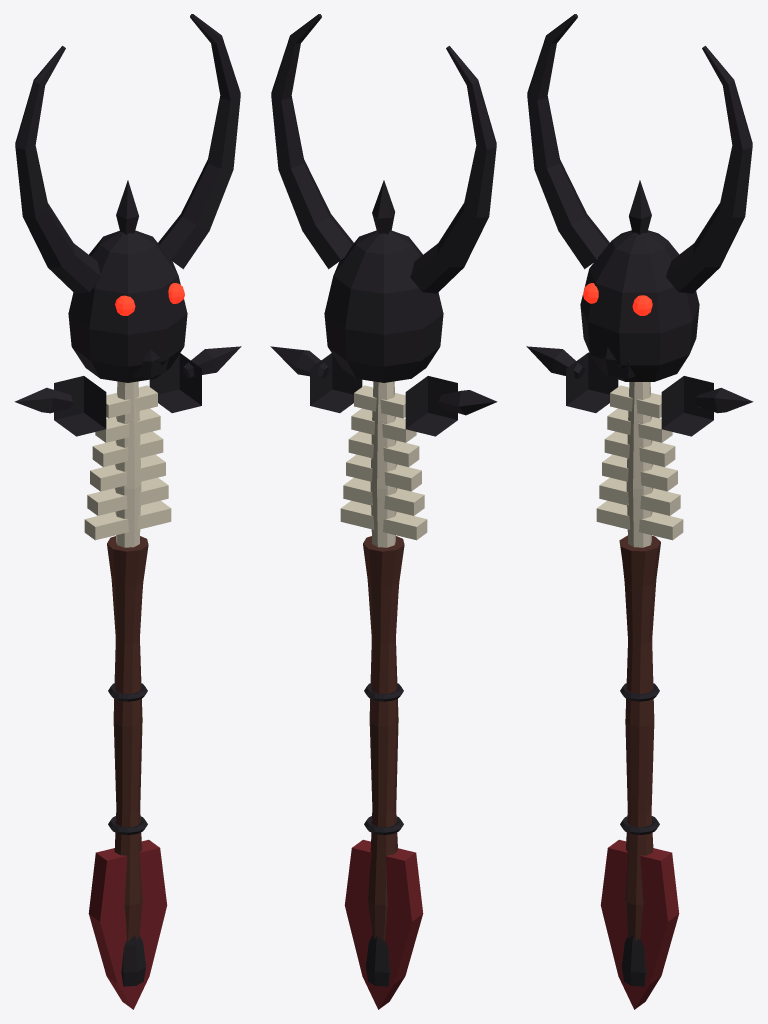
Rendered from staff_demon.glb.
The picture shows the model from 3 angles, left to right: view 1: azimuth 30°, elevation 25°; view 2: azimuth 150°, elevation 25°; view 3: azimuth 330°, elevation 25°; orthographic projection.
Parts seen in each view (by area): view 1: Dm_Helm, Dm_Shaft, Dm_Skirt, Dm_Horn1, Dm_Horn0, Dm_Spine, Dm_Pauldron0, Dm_Pauldron1, Dm_Rib0, Dm_Rib1, Dm_Rib2, Dm_Rib3 (+7 smaller); view 2: Dm_Helm, Dm_Shaft, Dm_Skirt, Dm_Horn1, Dm_Horn0, Dm_Spine, Dm_Pauldron0, Dm_Pauldron1, Dm_Rib0, Dm_Rib1, Dm_Rib2, Dm_Rib3 (+6 smaller); view 3: Dm_Helm, Dm_Shaft, Dm_Skirt, Dm_Horn0, Dm_Horn1, Dm_Spine, Dm_Pauldron1, Dm_Pauldron0, Dm_Rib0, Dm_Rib1, Dm_Rib2, Dm_Rib3 (+7 smaller).
Part boxes in pixels (bbox=[...]): Dm_Helm: bbox=[68, 230, 187, 382]; Dm_Shaft: bbox=[107, 536, 148, 941]; Dm_Skirt: bbox=[88, 839, 167, 1009]; Dm_Horn1: bbox=[158, 14, 240, 269]; Dm_Horn0: bbox=[15, 46, 101, 293]; Dm_Spine: bbox=[114, 381, 141, 547]; Dm_Pauldron0: bbox=[54, 376, 106, 436]; Dm_Pauldron1: bbox=[149, 353, 201, 412]; Dm_Rib0: bbox=[84, 500, 171, 540]; Dm_Rib1: bbox=[87, 477, 168, 515]; Dm_Rib2: bbox=[90, 454, 165, 491]; Dm_Rib3: bbox=[92, 431, 163, 467]; Dm_Helm: bbox=[324, 230, 443, 382]; Dm_Shaft: bbox=[363, 536, 404, 941]; Dm_Skirt: bbox=[344, 839, 423, 1009]; Dm_Horn1: bbox=[271, 14, 353, 269]; Dm_Horn0: bbox=[410, 46, 496, 293]; Dm_Spine: bbox=[370, 381, 397, 547]; Dm_Pauldron0: bbox=[405, 376, 457, 436]; Dm_Pauldron1: bbox=[310, 353, 362, 412]; Dm_Rib0: bbox=[340, 500, 427, 540]; Dm_Rib1: bbox=[343, 477, 424, 515]; Dm_Rib2: bbox=[346, 454, 421, 491]; Dm_Rib3: bbox=[348, 431, 419, 467]; Dm_Helm: bbox=[580, 230, 699, 381]; Dm_Shaft: bbox=[619, 535, 660, 940]; Dm_Skirt: bbox=[600, 839, 679, 1009]; Dm_Horn0: bbox=[527, 14, 609, 269]; Dm_Horn1: bbox=[666, 46, 752, 293]; Dm_Spine: bbox=[626, 382, 653, 547]; Dm_Pauldron1: bbox=[661, 376, 713, 436]; Dm_Pauldron0: bbox=[566, 352, 618, 412]; Dm_Rib0: bbox=[596, 500, 683, 540]; Dm_Rib1: bbox=[599, 477, 680, 515]; Dm_Rib2: bbox=[602, 454, 677, 491]; Dm_Rib3: bbox=[604, 431, 675, 467].
Size of the model in its own units: 0.6422 by 2.63 by 0.2915.
